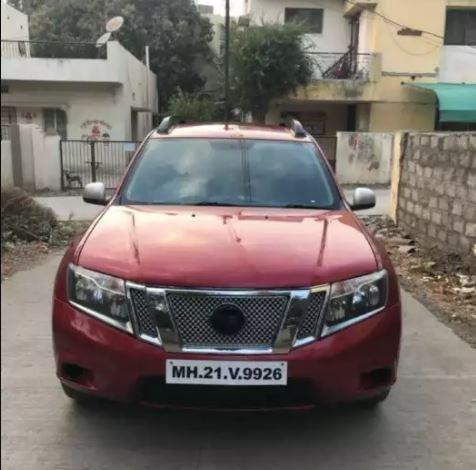License-Plate: (169, 350, 291, 390)
